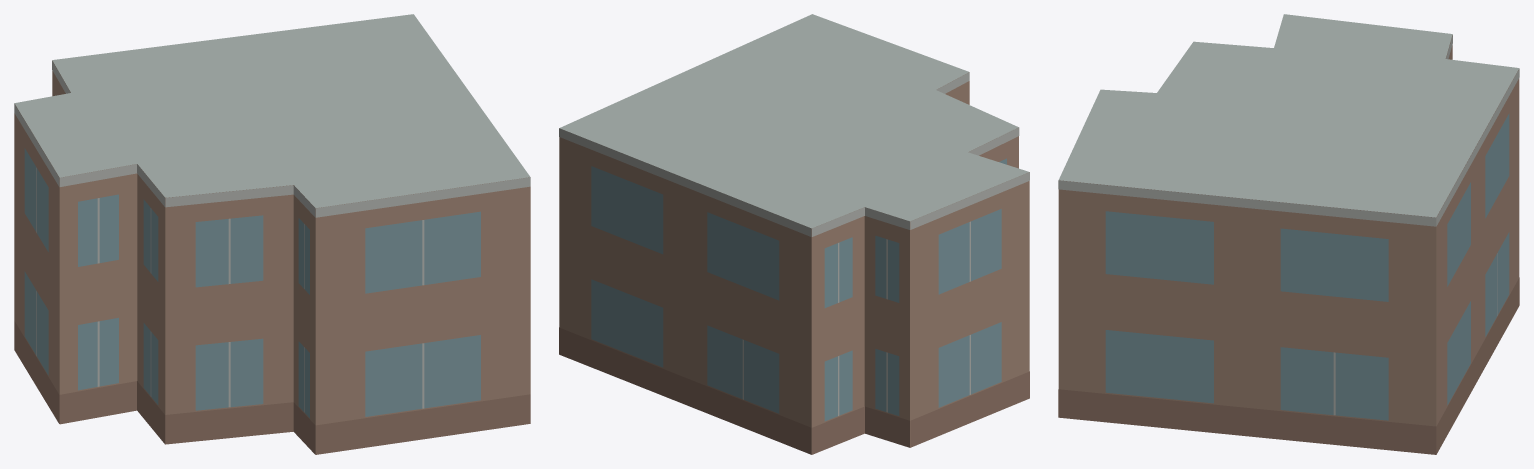
File: survey-upis-32494107.glb
3 renders of one model, left to right at view 1: azimuth 30°, elevation 25°; view 2: azimuth 150°, elevation 25°; view 3: azimuth 270°, elevation 25°, orthographic. The views are drawn at different scales.
Parts seen in each view (by area): view 1: survey-upis-32494107.tmp; view 2: survey-upis-32494107.tmp; view 3: survey-upis-32494107.tmp.
Boxes of the visible parts, x1,y1,x2,y2 form: survey-upis-32494107.tmp: [14, 14, 530, 454]; survey-upis-32494107.tmp: [559, 14, 1029, 454]; survey-upis-32494107.tmp: [1058, 14, 1519, 454].
Size of the model in its own units: 11.6 by 6.3 by 11.1.
